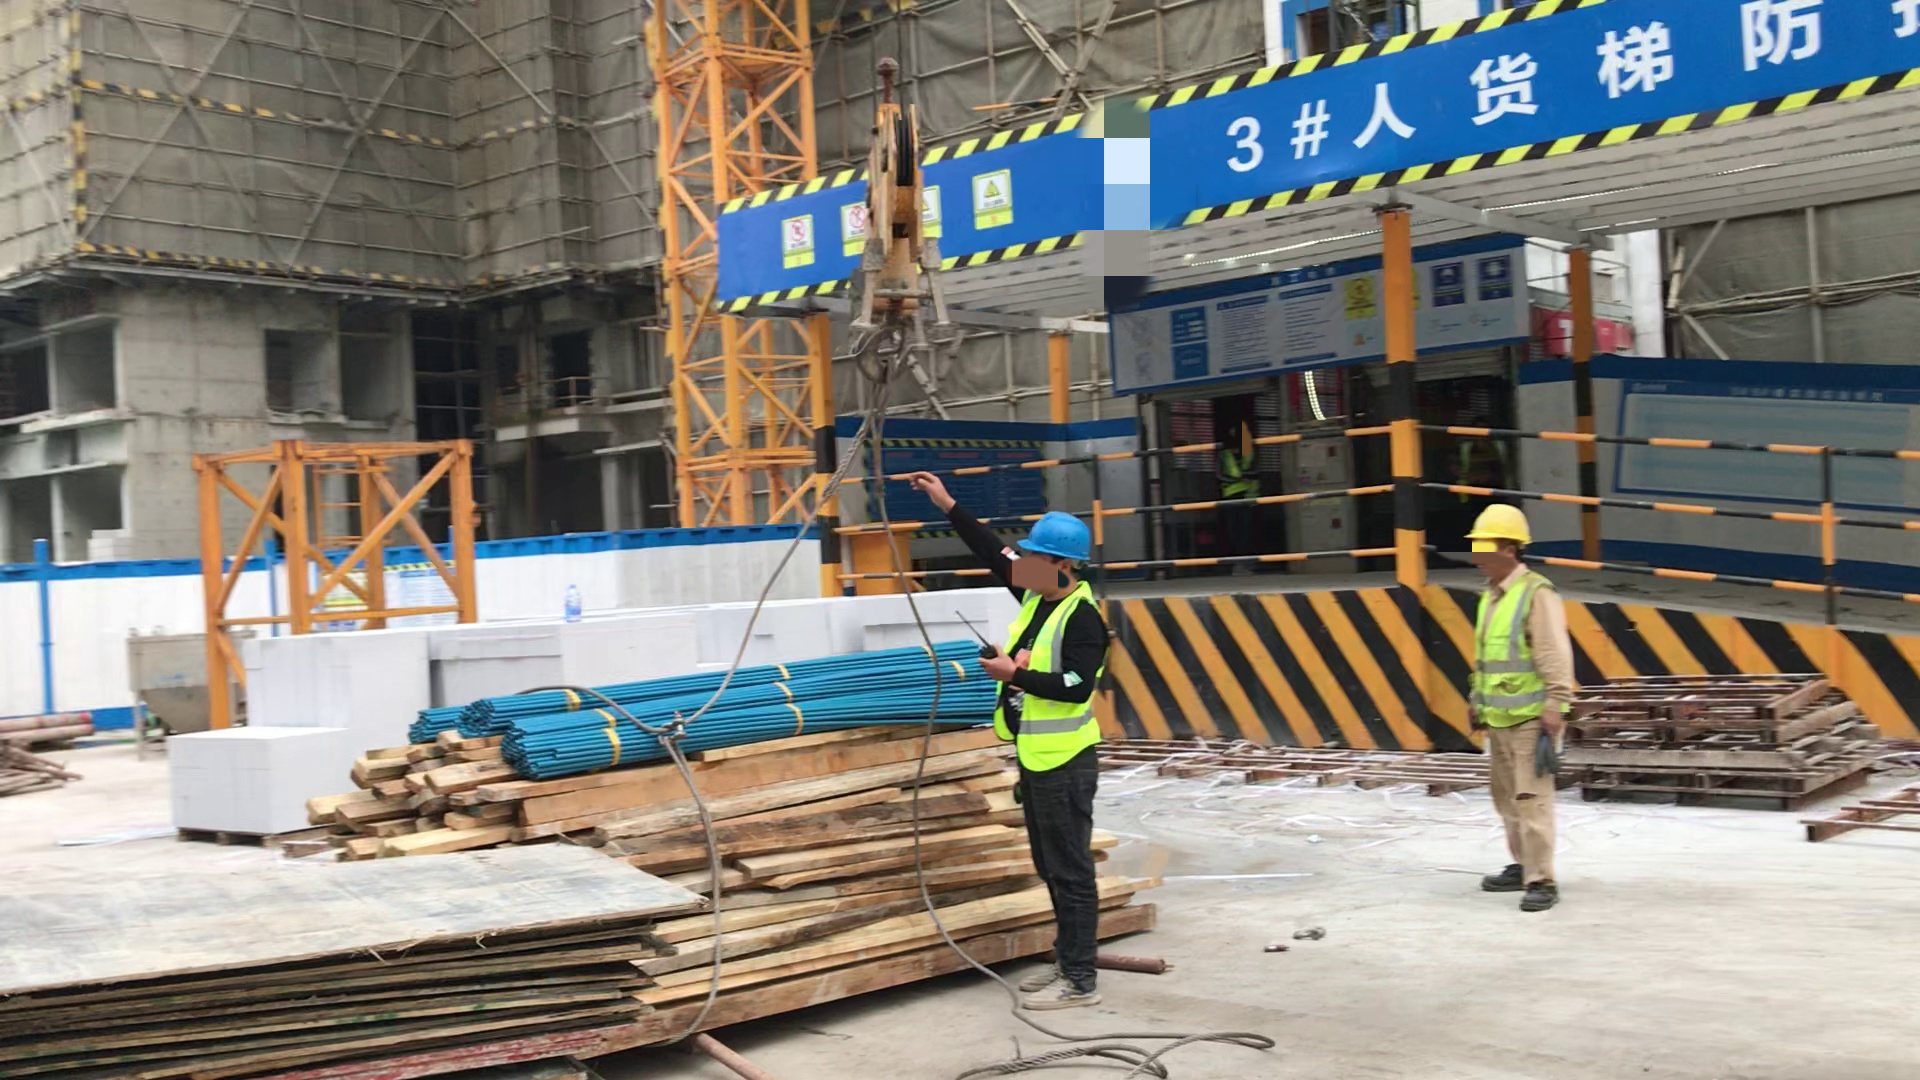board: (3, 854, 693, 1074)
brick: (188, 635, 417, 829)
helmet: (1017, 514, 1094, 564), (1467, 503, 1532, 542)
hook: (844, 62, 942, 393)
person: (915, 469, 1105, 1012), (1456, 500, 1571, 919)
slogan: (1346, 263, 1514, 319), (778, 210, 863, 269), (965, 176, 1015, 227)
vest: (990, 596, 1106, 769), (1470, 576, 1546, 724)
wood: (362, 753, 1117, 989)
